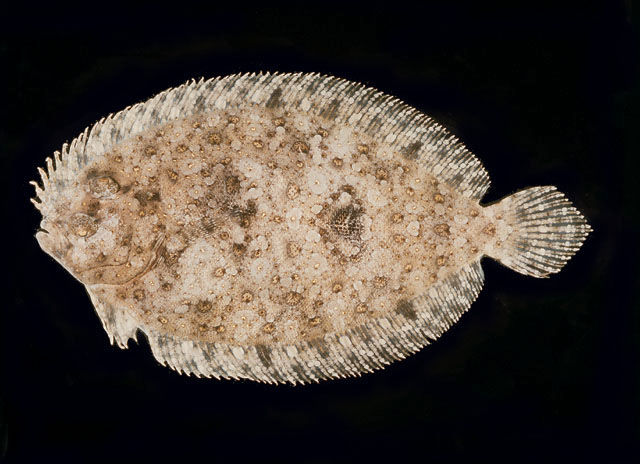fish: (30, 73, 595, 384)
